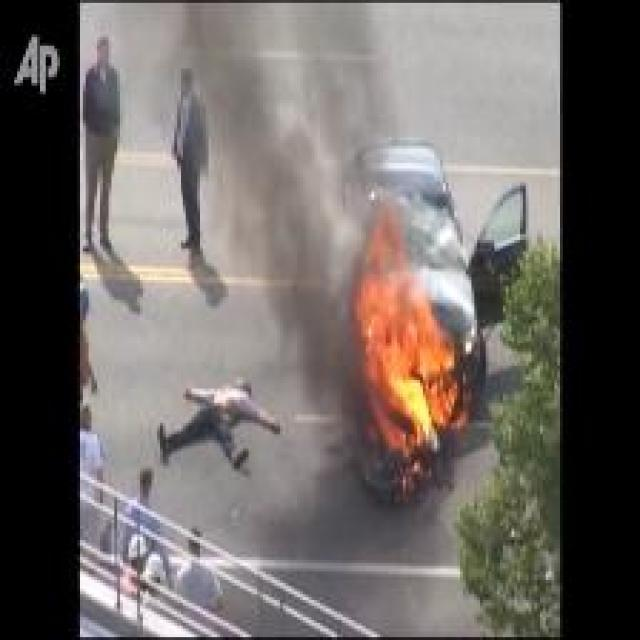Fire: (358, 192, 466, 457)
